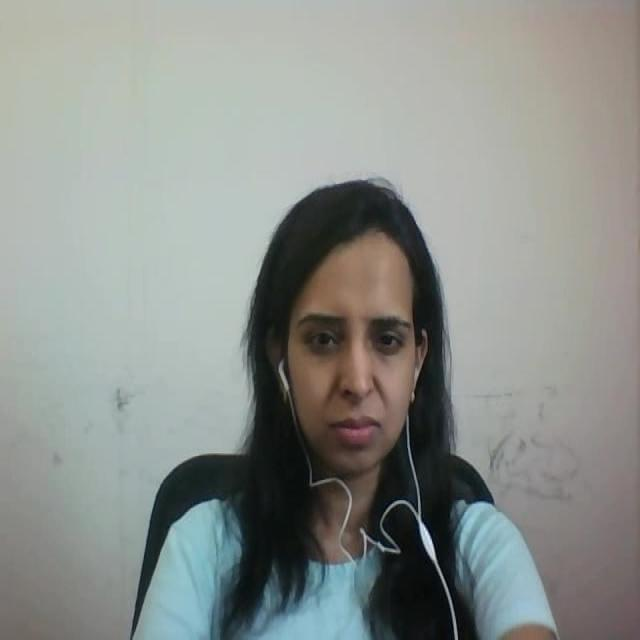Engaged: (240, 154, 482, 461)
